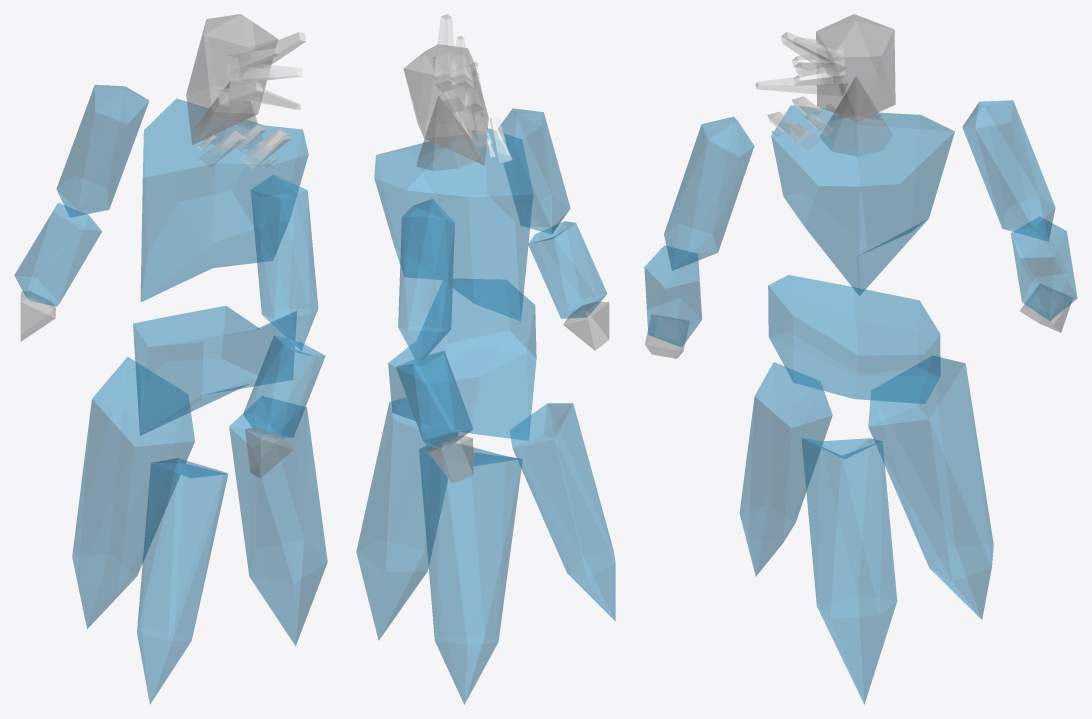
File: ghostChargingLunge5.obj
The picture shows the model from 3 angles, left to right: view 1: azimuth 30°, elevation 25°; view 2: azimuth 150°, elevation 25°; view 3: azimuth 270°, elevation 25°; orthographic projection. The views are drawn at different scales.
Visible parts, largest first — view 1: Cube.001_Cube.006, Icosphere.017, Icosphere.016, Cube_Cube.006, Icosphere.015, Icosphere.005_Icosphere.005, Icosphere.003_Icosphere.006, Icosphere.007_Icosphere.005, Icosphere.006_Icosphere.005, Icosphere.008_Icosphere.005, Cone_Cone.006, Cube.002_Cube.006 (+8 smaller); view 2: Cube.001_Cube.006, Cube_Cube.006, Icosphere.017, Icosphere.016, Icosphere.015, Icosphere.007_Icosphere.005, Icosphere.003_Icosphere.006, Icosphere.005_Icosphere.005, Icosphere.006_Icosphere.005, Icosphere.008_Icosphere.005, Cone_Cone.006, Cube.002_Cube.006 (+6 smaller); view 3: Cube.001_Cube.006, Icosphere.017, Icosphere.016, Cube_Cube.006, Icosphere.015, Icosphere.005_Icosphere.005, Icosphere.007_Icosphere.005, Icosphere.003_Icosphere.006, Icosphere.008_Icosphere.005, Icosphere.006_Icosphere.005, Cone_Cone.006, Cube.003_Cube.006 (+4 smaller).
Part boxes in pixels (box(x1,y1,x2,y2)): Cube.001_Cube.006: box(140, 98, 308, 302); Icosphere.017: box(72, 357, 194, 628); Icosphere.016: box(229, 396, 327, 645); Cube_Cube.006: box(133, 306, 296, 435); Icosphere.015: box(137, 458, 228, 704); Icosphere.005_Icosphere.005: box(250, 174, 318, 350); Icosphere.003_Icosphere.006: box(186, 14, 277, 144); Icosphere.007_Icosphere.005: box(56, 84, 148, 217); Icosphere.006_Icosphere.005: box(243, 335, 325, 437); Icosphere.008_Icosphere.005: box(14, 203, 101, 306); Cone_Cone.006: box(194, 82, 262, 148); Cube.002_Cube.006: box(245, 427, 293, 478); Cube.001_Cube.006: box(374, 128, 533, 321); Cube_Cube.006: box(388, 279, 536, 440); Icosphere.017: box(419, 439, 522, 704); Icosphere.016: box(356, 397, 458, 640); Icosphere.015: box(510, 403, 615, 621); Icosphere.007_Icosphere.005: box(398, 199, 454, 364); Icosphere.003_Icosphere.006: box(403, 44, 488, 165); Icosphere.005_Icosphere.005: box(498, 108, 570, 233); Icosphere.006_Icosphere.005: box(528, 221, 607, 318); Icosphere.008_Icosphere.005: box(396, 351, 472, 448); Cone_Cone.006: box(416, 96, 478, 170); Cube.002_Cube.006: box(563, 301, 609, 350); Cube.001_Cube.006: box(771, 105, 954, 295); Icosphere.017: box(868, 356, 993, 619); Icosphere.016: box(801, 437, 897, 704); Cube_Cube.006: box(768, 275, 940, 403); Icosphere.015: box(739, 362, 832, 576); Icosphere.005_Icosphere.005: box(664, 116, 754, 270); Icosphere.007_Icosphere.005: box(962, 100, 1055, 241); Icosphere.003_Icosphere.006: box(816, 14, 895, 121); Icosphere.008_Icosphere.005: box(1011, 217, 1077, 320); Icosphere.006_Icosphere.005: box(644, 245, 701, 347); Cone_Cone.006: box(820, 76, 892, 156); Cube.003_Cube.006: box(1020, 284, 1072, 332).
Size of the model in its own units: 17.12 by 47.88 by 28.66.
